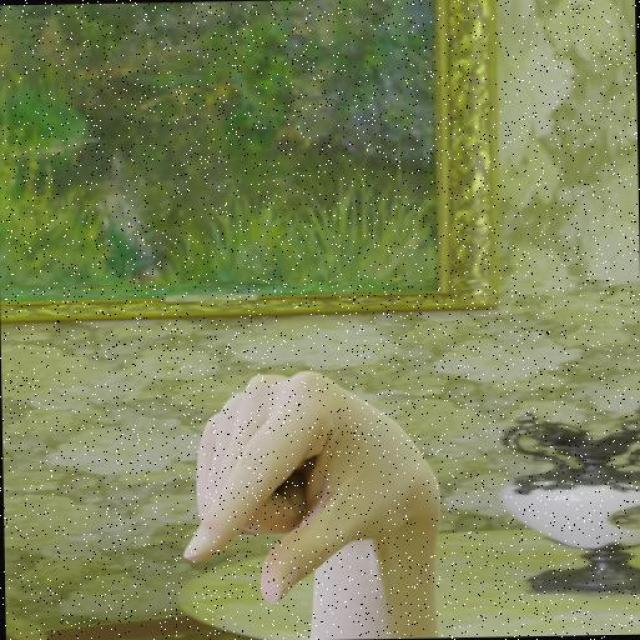Q: (177, 366, 448, 608)
